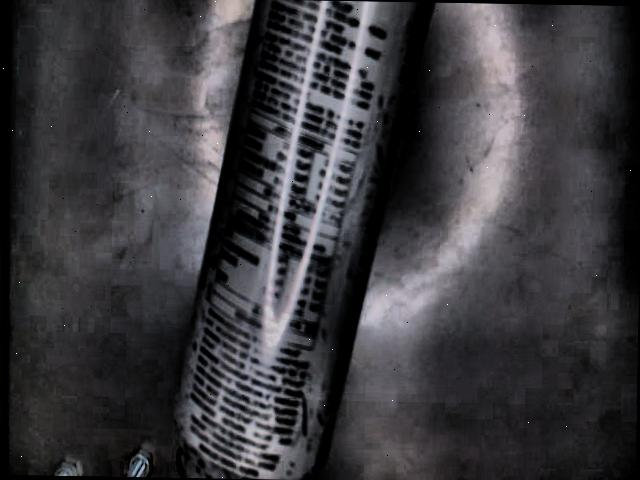Bottles: (173, 0, 436, 480)
